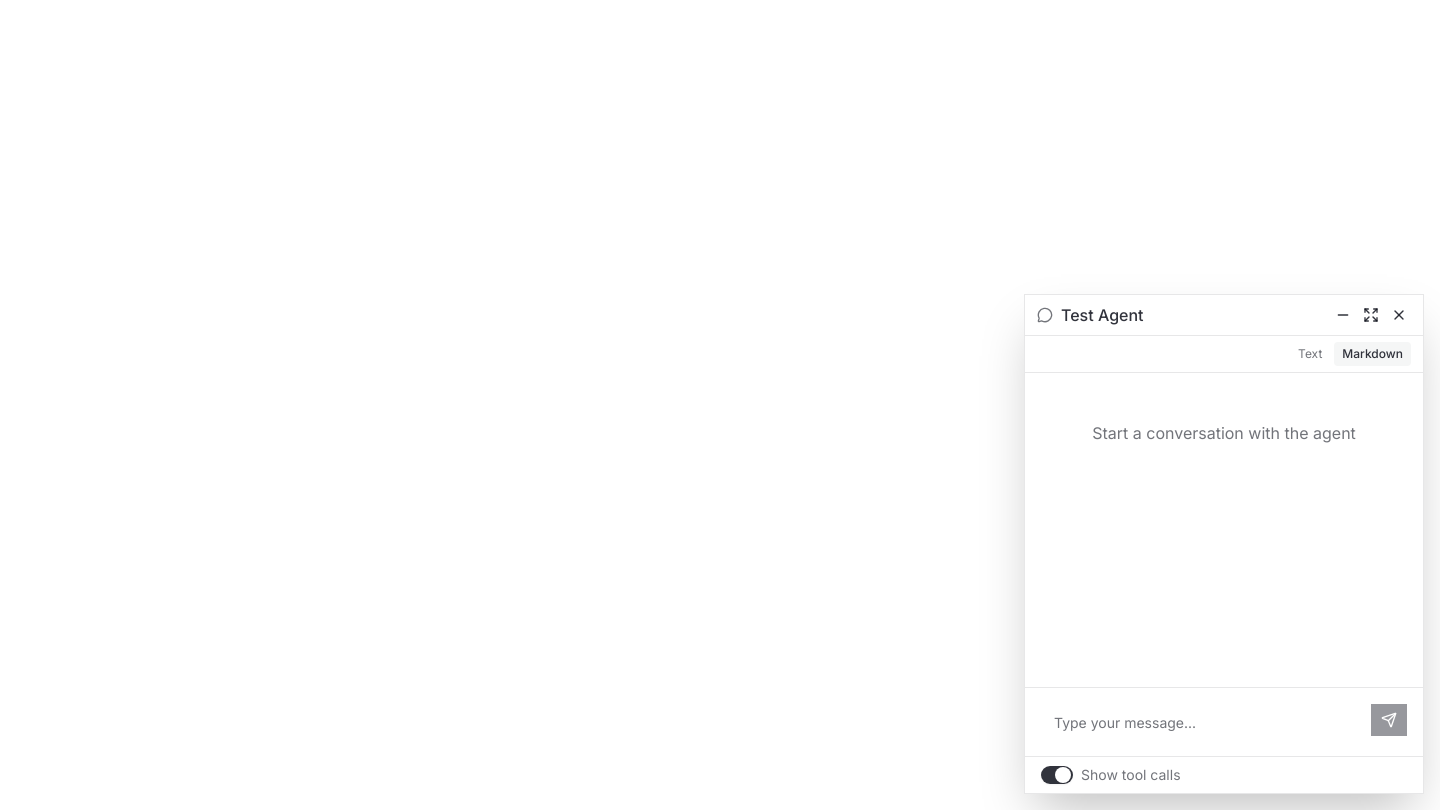
Test case: FloatingChat › window state management › maximized state › should allow minimizing from maximized state
This screenshot has width=1440, height=810.
Click the button named "maximize chat".
click(1371, 315)  # box [1359,303,1383,327]
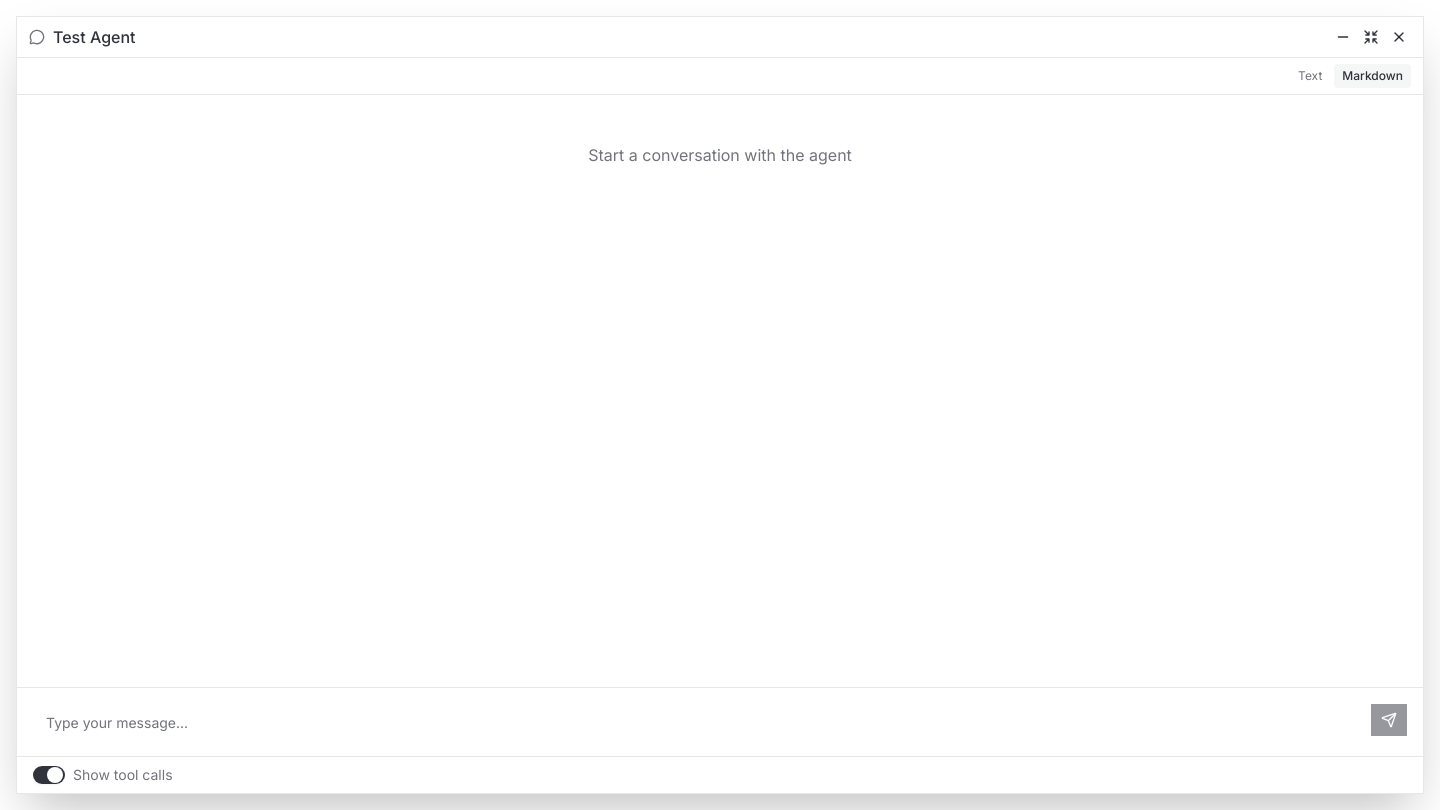
Click the button named "minimize chat".
click(1343, 37)  # box [1331,25,1355,49]
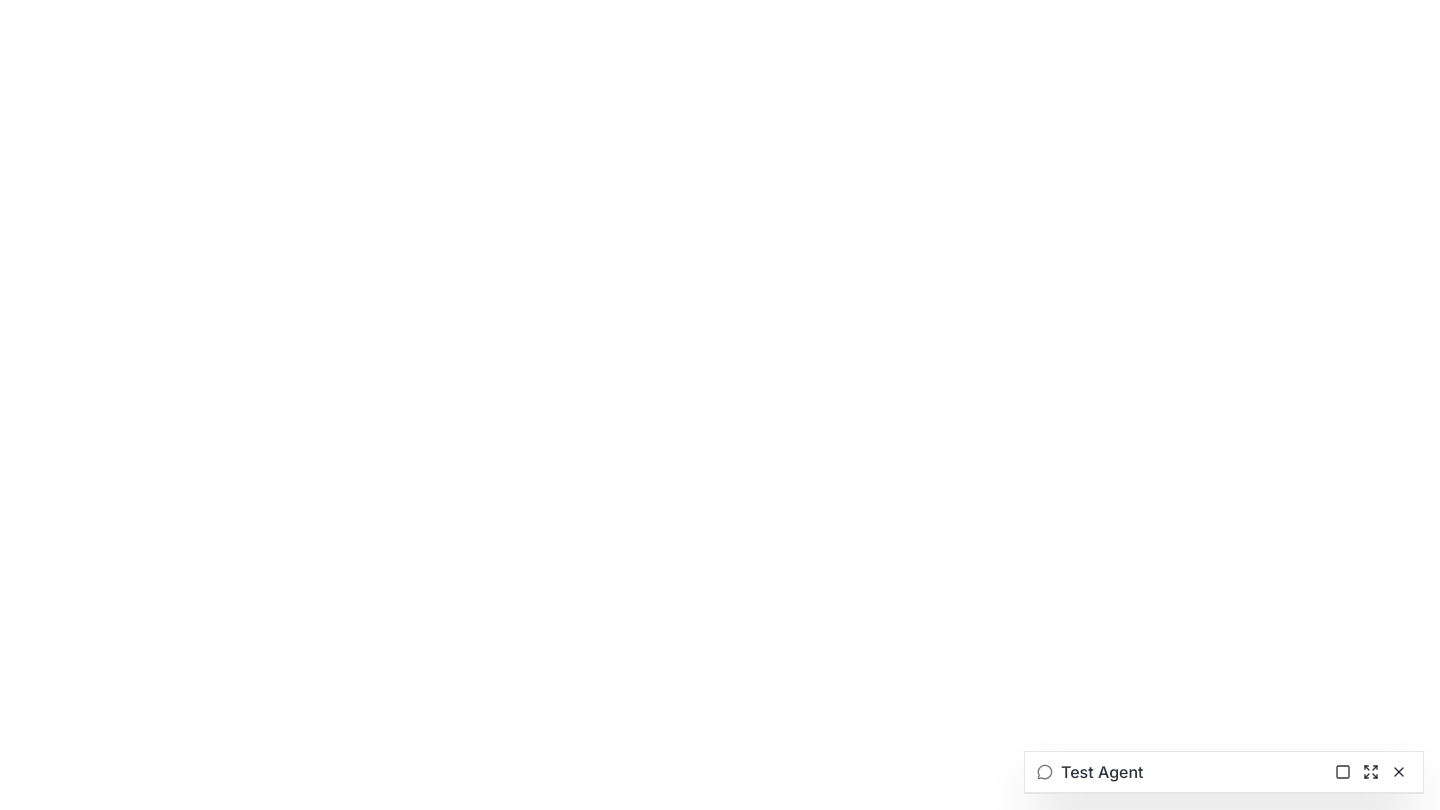
Expected: the field with placeholder "Type your message..." is not shown
Result: the button named "restore chat" is shown at [1331,760,1355,784]
